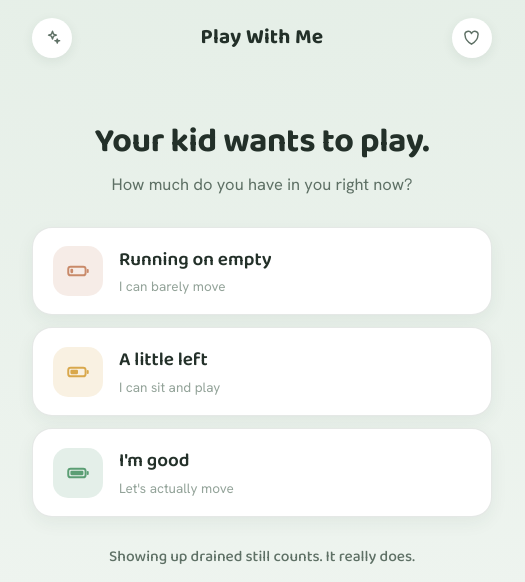
it: one idea › "Another idea" swaps to a different idea
This screenshot has width=525, height=582.
Click the button "A little left I can sit and play".
click(78, 372)  # box [32,328,492,416]
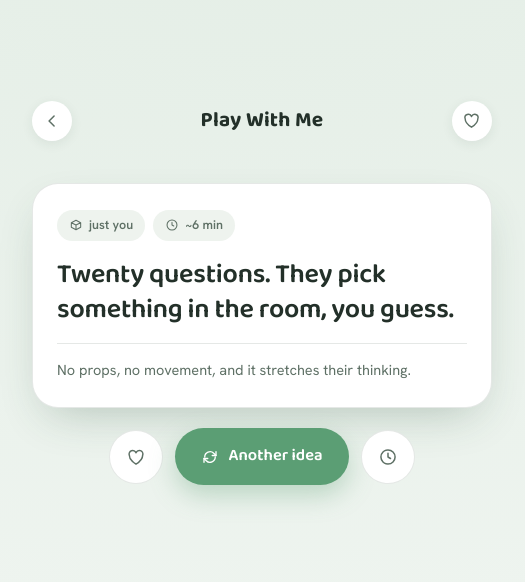
Click the button "Another idea".
click(262, 457)  # box [175,428,348,485]
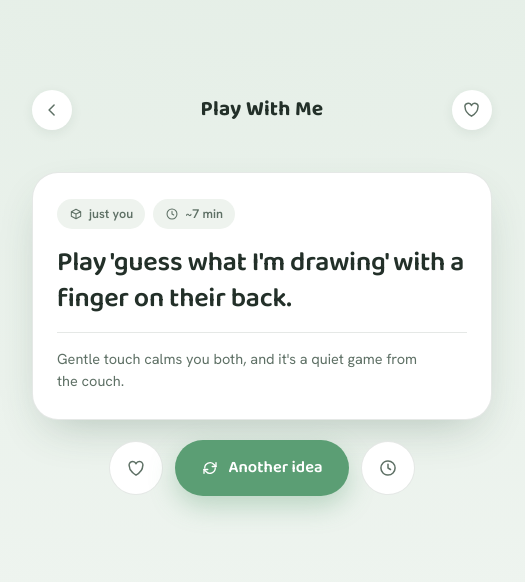
Now the text "Twenty questions. They pick something in the room, you guess." is gone
